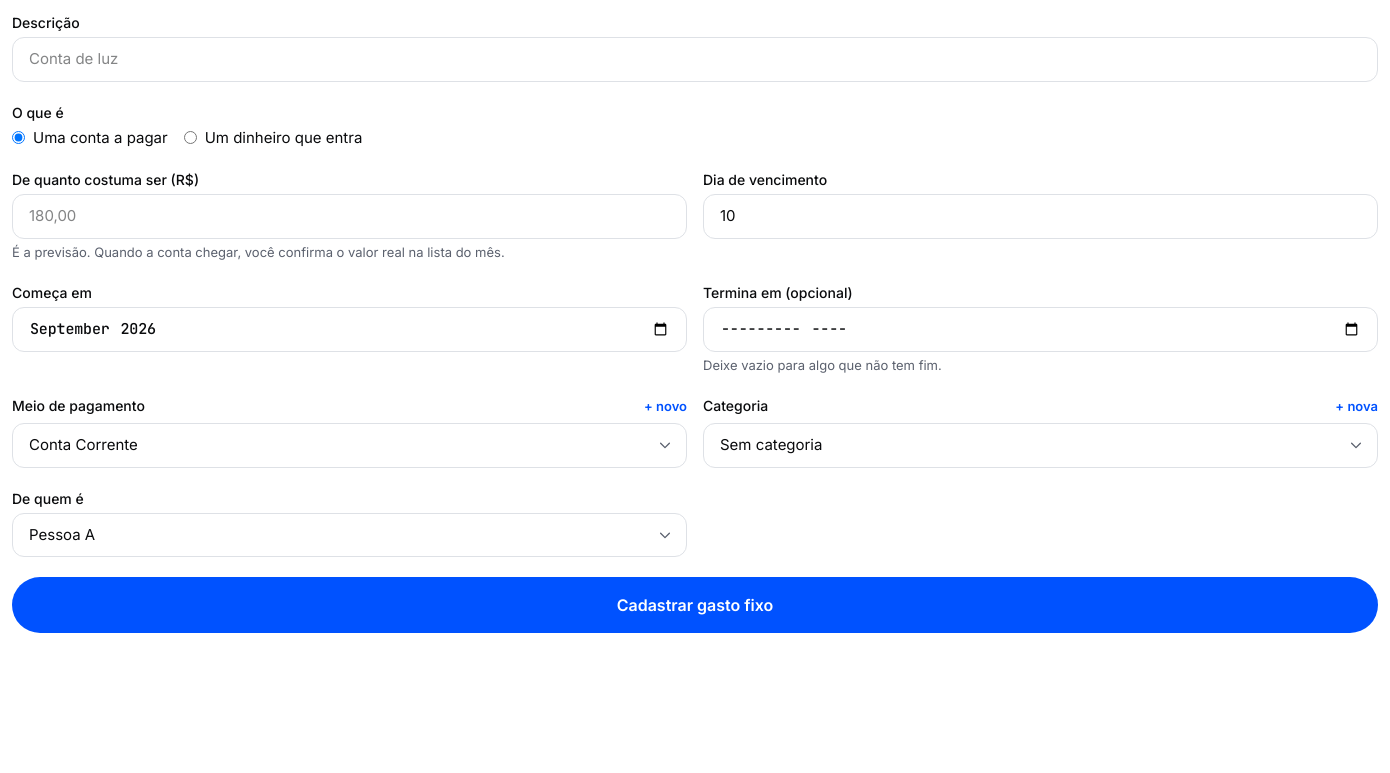
formulário de gasto fixo › dá para cadastrar meio de pagamento sem sair do formulário
The image size is (1390, 773).
Click the button "+ novo": (666, 407) [644,395,687,419]
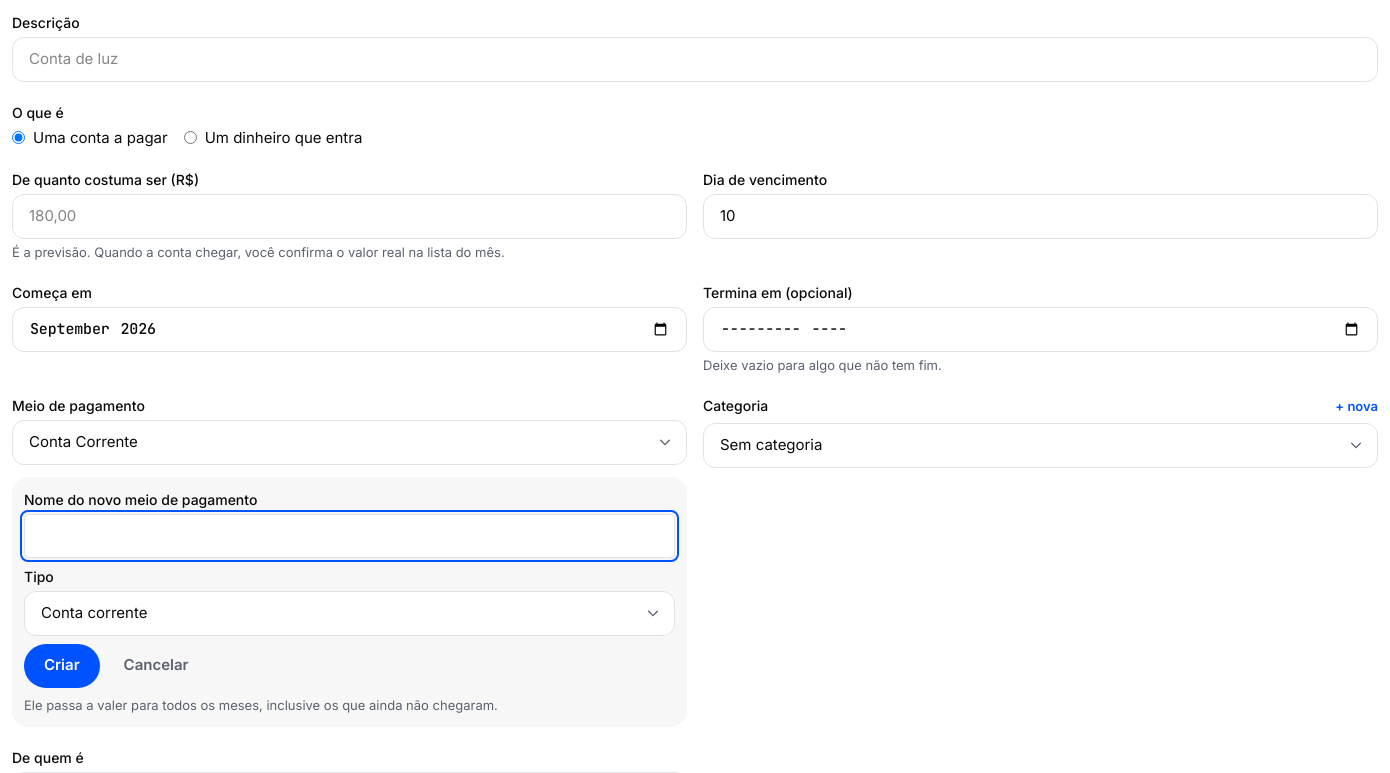
Expected: the field labelled "Nome do novo meio de pagamento" is shown, [24,514,675,558]
